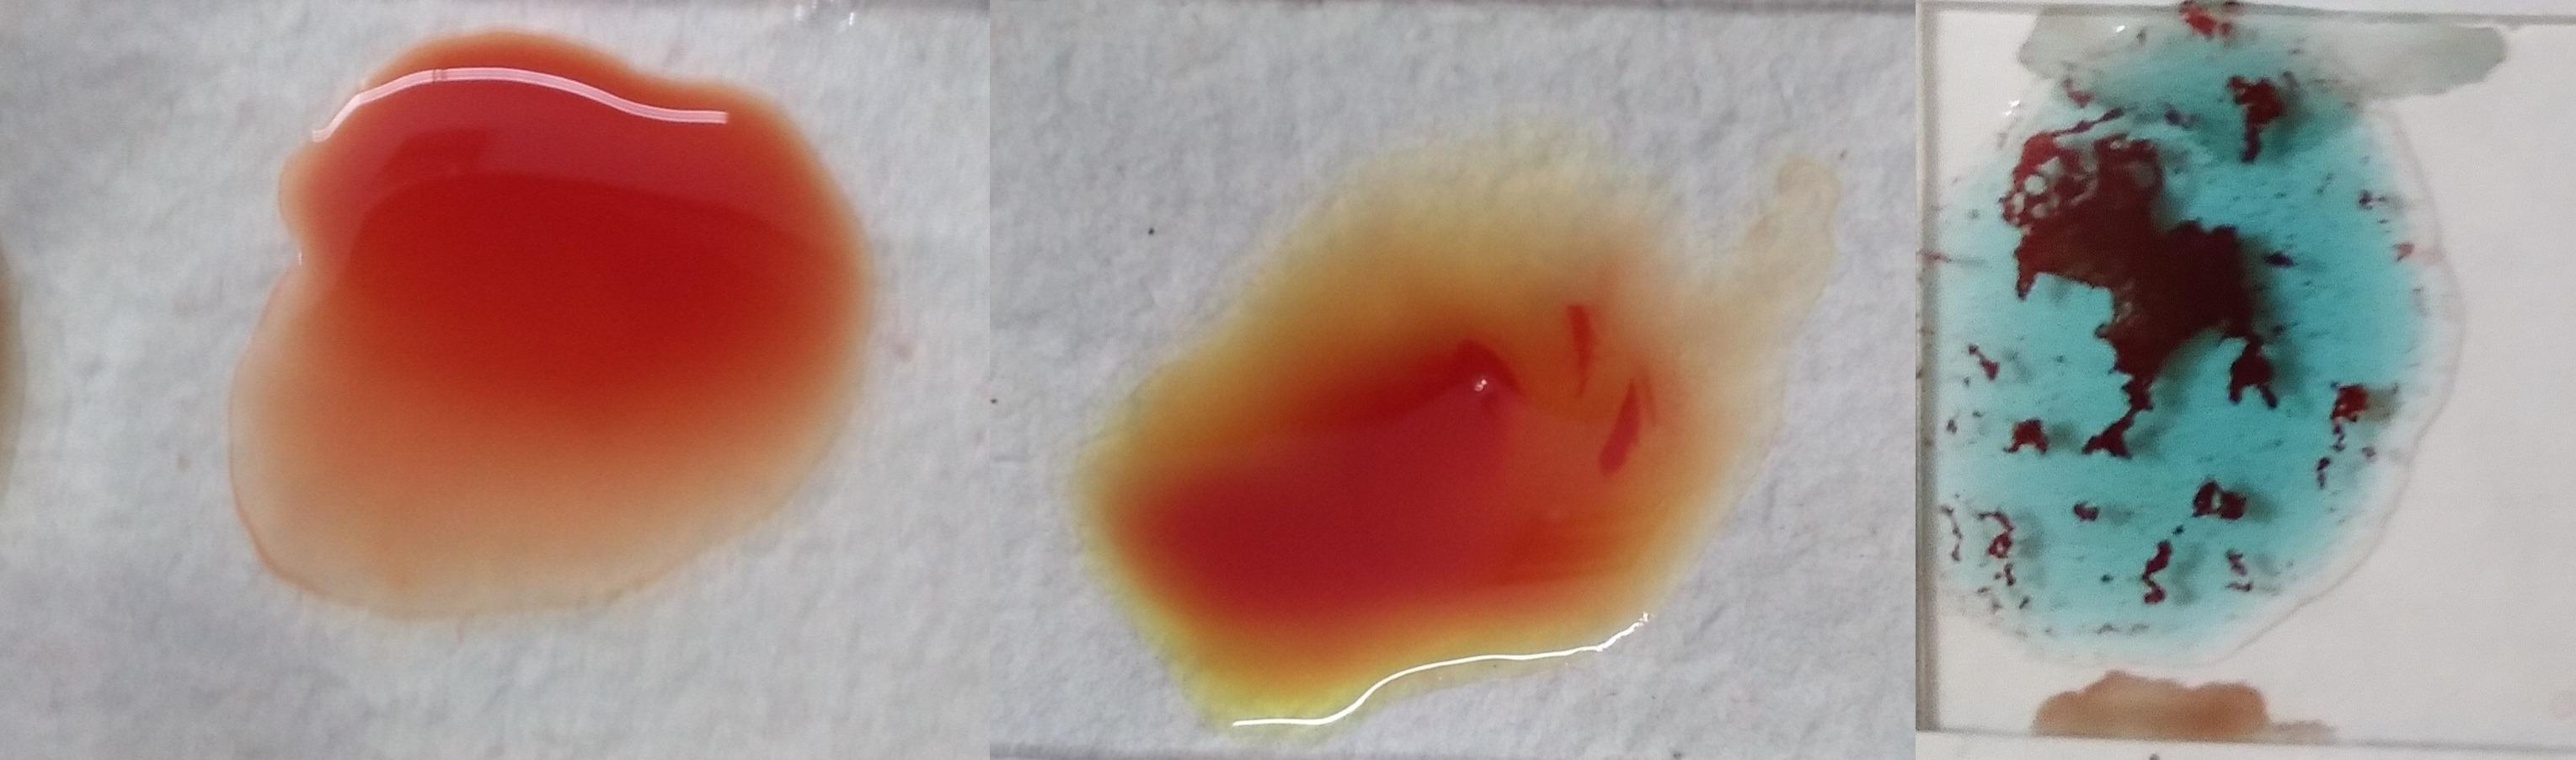A: (1955, 67, 2426, 657)
